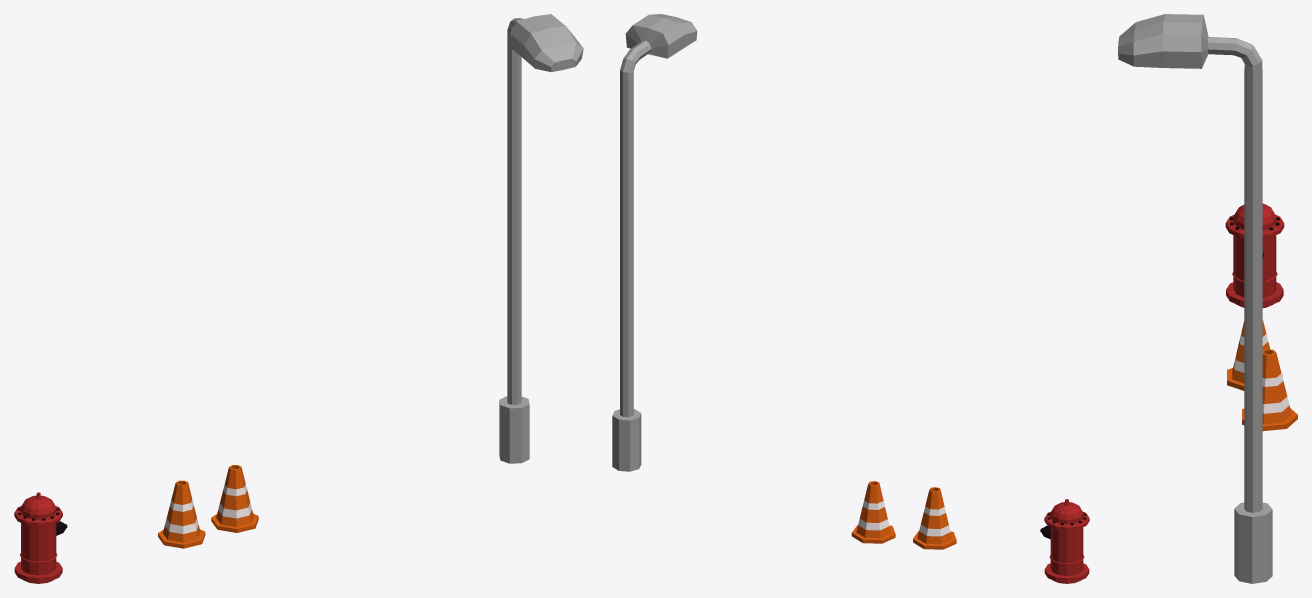
File: matafuegos.fbx
3 renders of one model, left to right at view 1: azimuth 30°, elevation 25°; view 2: azimuth 150°, elevation 25°; view 3: azimuth 270°, elevation 25°, orthographic. The views are drawn at different scales.
Parts seen in each view (by area): view 1: Circle.015, Circle, Circle.013, Circle.014; view 2: Circle.015, Circle, Circle.014, Circle.013; view 3: Circle.015, Circle, Circle.014, Circle.013.
Boxes of the visible parts, x1,y1,x2,y2 form: Circle.015: (499,14,583,463); Circle: (14,492,67,583); Circle.013: (158,480,205,548); Circle.014: (211,465,258,532); Circle.015: (612,14,697,471); Circle: (1040,499,1089,583); Circle.014: (851,481,895,543); Circle.013: (913,487,956,549); Circle.015: (1118,14,1272,583); Circle: (1225,203,1284,308); Circle.014: (1242,349,1297,431); Circle.013: (1227,319,1282,390).
Bounding box in the file's own units: 3357 × 2846 × 833.
